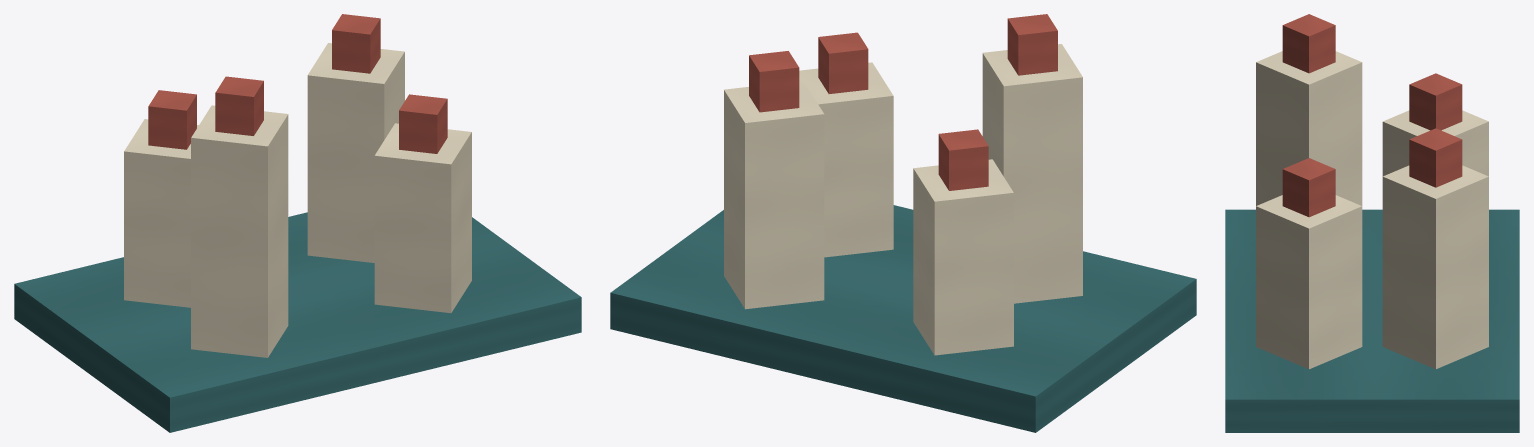
File: atlas100-s031-a04.lod2.glb
3 views of the same model, side by side, from view 1: azimuth 30°, elevation 25°; view 2: azimuth 150°, elevation 25°; view 3: azimuth 270°, elevation 25° (orthographic). The views are drawn at different scales.
Parts seen in each view (by area): view 1: atlas100-s031-a04:part-000, atlas100-s031-a04:part-007, atlas100-s031-a04:part-010, atlas100-s031-a04:part-004, atlas100-s031-a04:part-001, atlas100-s031-a04:part-008, atlas100-s031-a04:part-011, atlas100-s031-a04:part-005, atlas100-s031-a04:part-002; view 2: atlas100-s031-a04:part-000, atlas100-s031-a04:part-004, atlas100-s031-a04:part-007, atlas100-s031-a04:part-001, atlas100-s031-a04:part-010, atlas100-s031-a04:part-008, atlas100-s031-a04:part-002, atlas100-s031-a04:part-005, atlas100-s031-a04:part-011; view 3: atlas100-s031-a04:part-000, atlas100-s031-a04:part-004, atlas100-s031-a04:part-010, atlas100-s031-a04:part-007, atlas100-s031-a04:part-001, atlas100-s031-a04:part-005, atlas100-s031-a04:part-008, atlas100-s031-a04:part-011, atlas100-s031-a04:part-002.
Part boxes in pixels (x1,y1,x2,y2): atlas100-s031-a04:part-000: [14, 212, 581, 432]; atlas100-s031-a04:part-007: [191, 105, 288, 357]; atlas100-s031-a04:part-010: [374, 123, 471, 313]; atlas100-s031-a04:part-004: [307, 43, 404, 262]; atlas100-s031-a04:part-001: [124, 119, 198, 307]; atlas100-s031-a04:part-008: [215, 76, 263, 135]; atlas100-s031-a04:part-011: [399, 94, 447, 153]; atlas100-s031-a04:part-005: [332, 14, 380, 73]; atlas100-s031-a04:part-002: [148, 90, 196, 149]; atlas100-s031-a04:part-000: [610, 205, 1196, 432]; atlas100-s031-a04:part-004: [724, 80, 824, 309]; atlas100-s031-a04:part-007: [982, 44, 1082, 303]; atlas100-s031-a04:part-001: [913, 159, 1013, 355]; atlas100-s031-a04:part-010: [799, 62, 893, 257]; atlas100-s031-a04:part-008: [1007, 14, 1057, 75]; atlas100-s031-a04:part-002: [938, 129, 988, 190]; atlas100-s031-a04:part-005: [749, 51, 799, 112]; atlas100-s031-a04:part-011: [818, 32, 868, 93]; atlas100-s031-a04:part-000: [1225, 209, 1519, 432]; atlas100-s031-a04:part-004: [1382, 165, 1488, 369]; atlas100-s031-a04:part-010: [1256, 195, 1362, 369]; atlas100-s031-a04:part-007: [1256, 51, 1362, 205]; atlas100-s031-a04:part-001: [1382, 110, 1488, 176]; atlas100-s031-a04:part-005: [1409, 128, 1462, 187]; atlas100-s031-a04:part-008: [1282, 14, 1335, 73]; atlas100-s031-a04:part-011: [1282, 158, 1335, 217]; atlas100-s031-a04:part-002: [1409, 73, 1462, 130].
Bounding box in the file's own units: 1.18 × 0.7804 × 0.7697.
3 materials, 3 textured.
